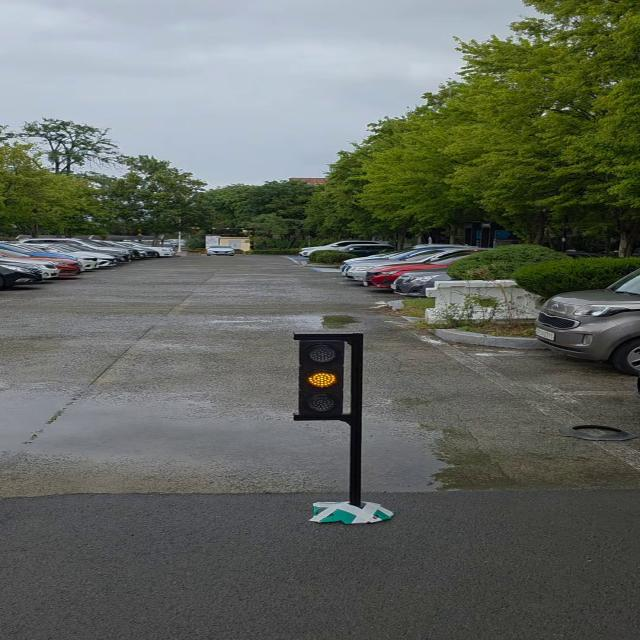yellow: (289, 328, 363, 427)
